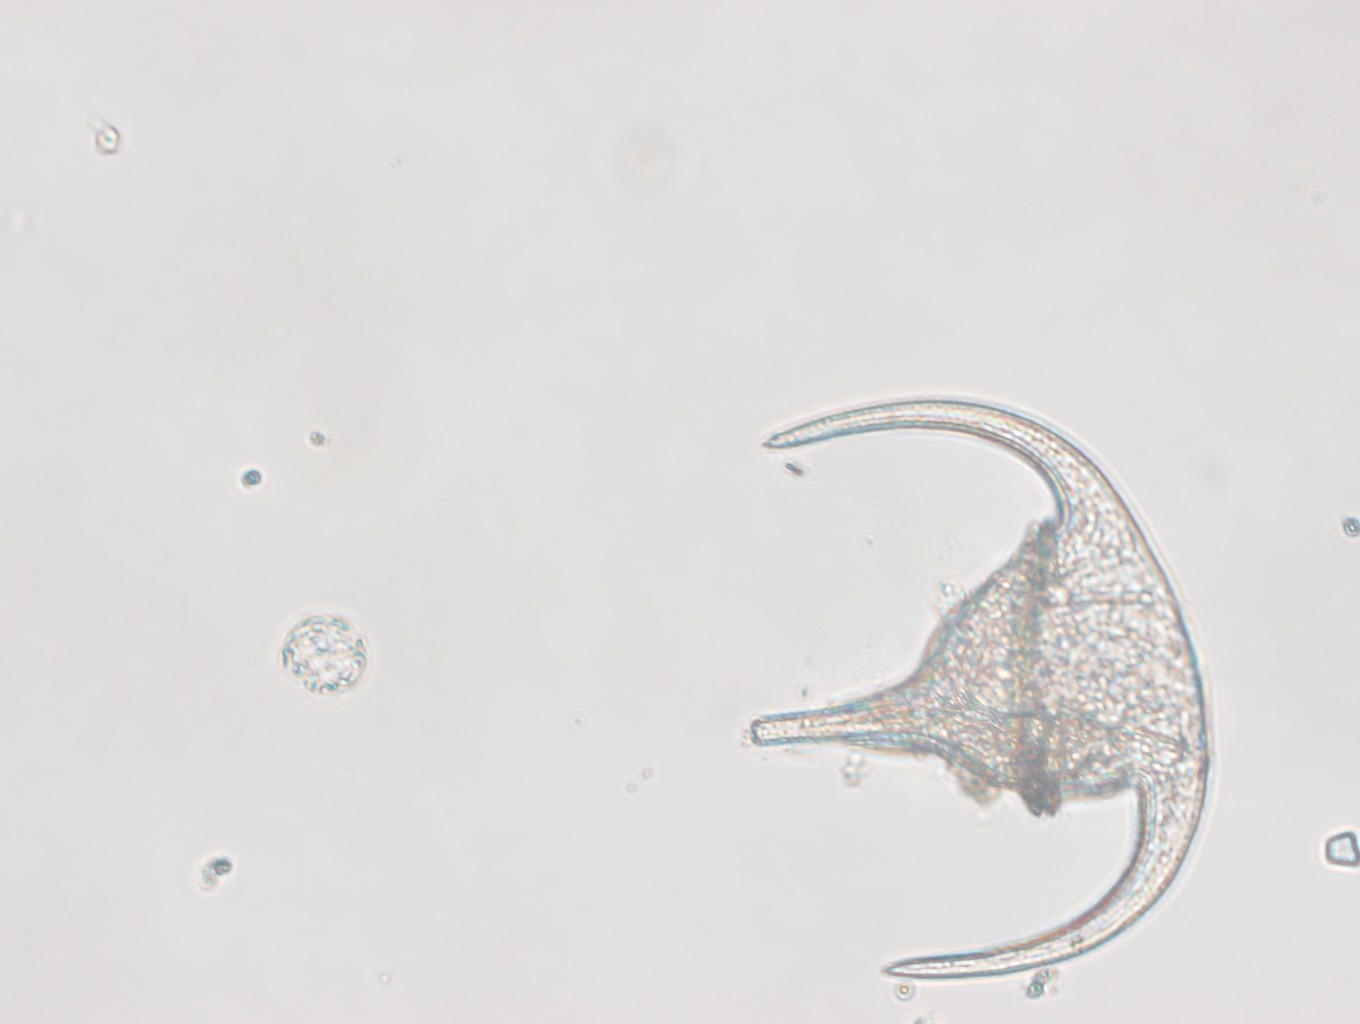ceratium tripos: (748, 396, 1209, 977)
